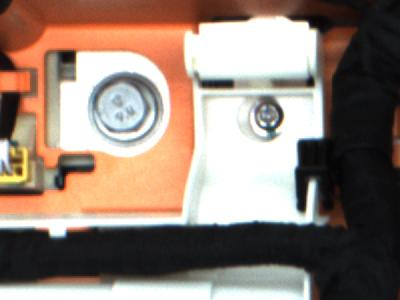nut_b: (82, 71, 152, 135)
screw_m: (241, 98, 297, 141)
